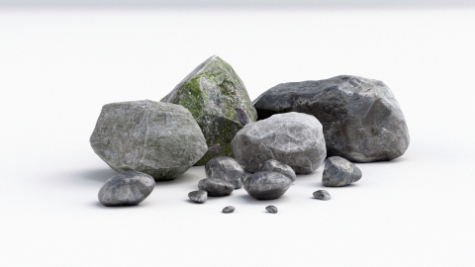stone: (248, 67, 420, 167), (148, 50, 265, 172), (84, 93, 213, 185), (227, 104, 333, 187), (86, 164, 161, 211), (242, 155, 303, 195), (319, 149, 368, 192), (202, 153, 245, 195)
